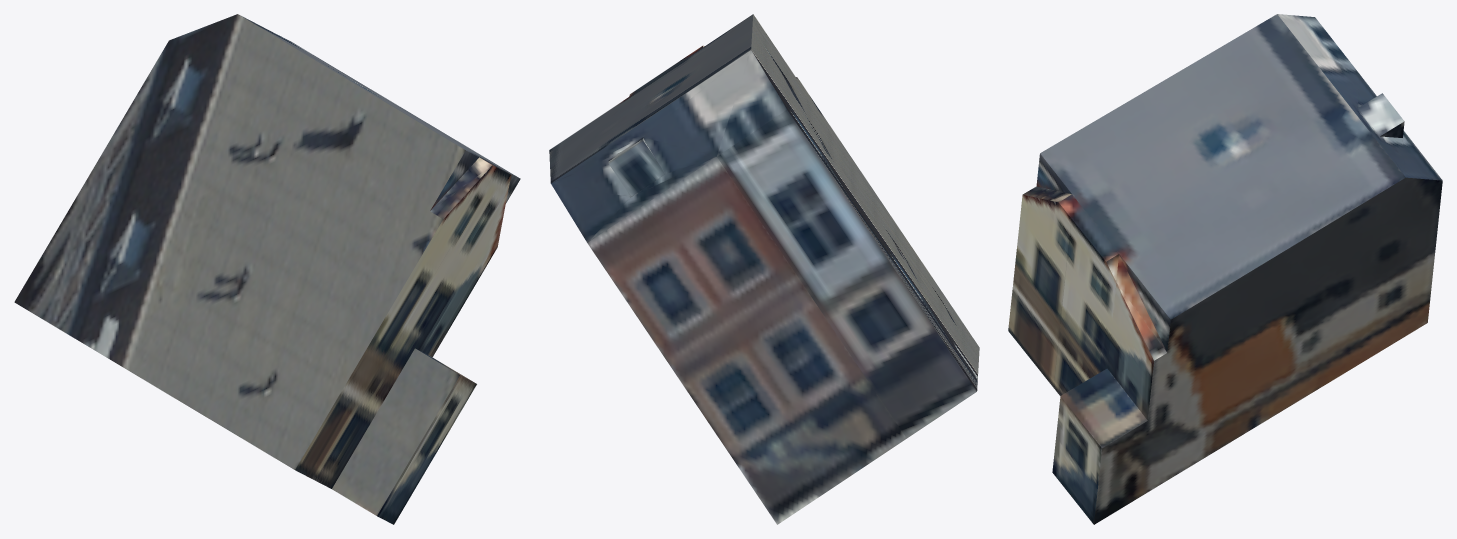
The picture shows the model from 3 angles, left to right: view 1: azimuth 30°, elevation 25°; view 2: azimuth 150°, elevation 25°; view 3: azimuth 270°, elevation 25°; orthographic projection. The views are drawn at different scales.
Parts seen in each view (by area): view 1: BAG_0599100000650090 (×4); view 2: BAG_0599100000650090 (×6); view 3: BAG_0599100000650090 (×6).
Part boxes in pixels (left/top/right/bottom): BAG_0599100000650090 (×4): left=14, top=14, right=518, bottom=524; BAG_0599100000650090 (×6): left=549, top=14, right=979, bottom=524; BAG_0599100000650090 (×6): left=1008, top=14, right=1442, bottom=524.
Bounding box in the file's own units: 16.45 × 16.38 × 13.52.
1 material, 1 textured.
